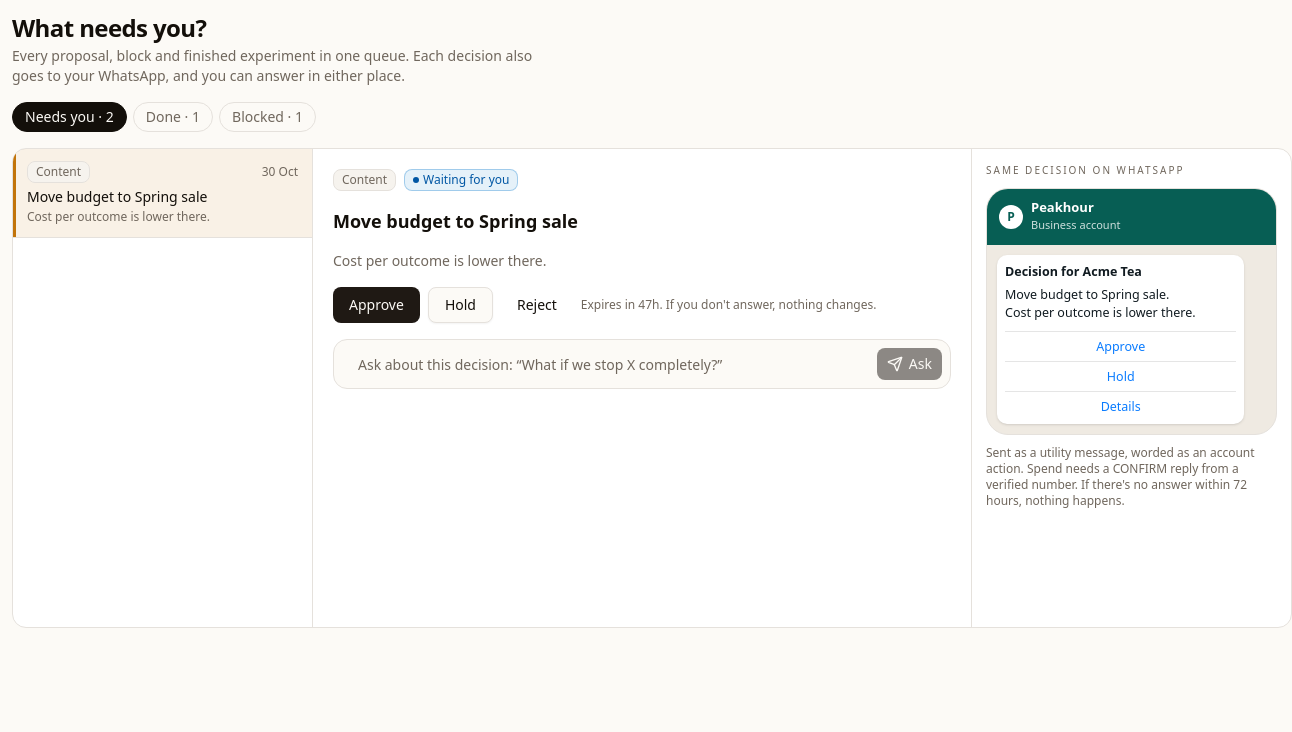
Test: answering › ★a 409 QUIET_HOURS renders its action
This screenshot has width=1292, height=732.
Click the button "Approve" at (376, 305), box left=333, top=287, right=420, bottom=323
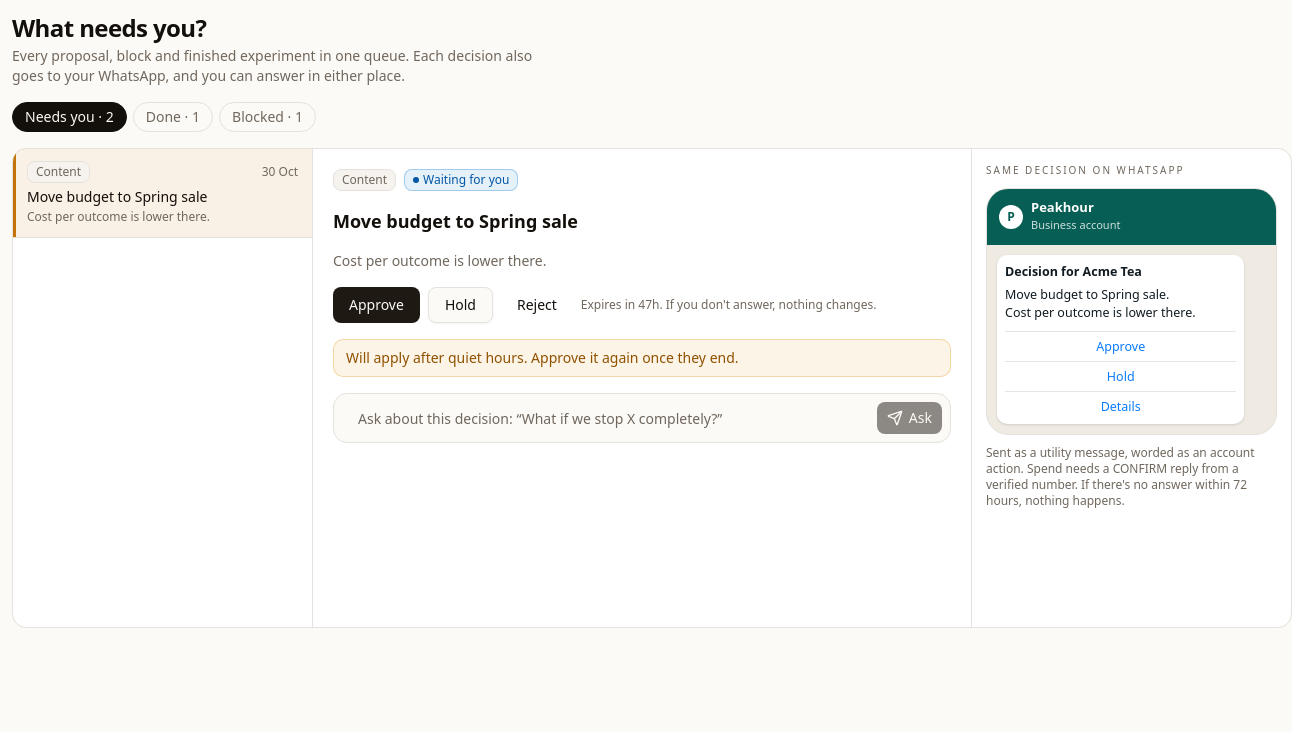
Expected: the message "Will apply after quiet hours. Approve it again once they end." is shown, left=333, top=339, right=951, bottom=377
